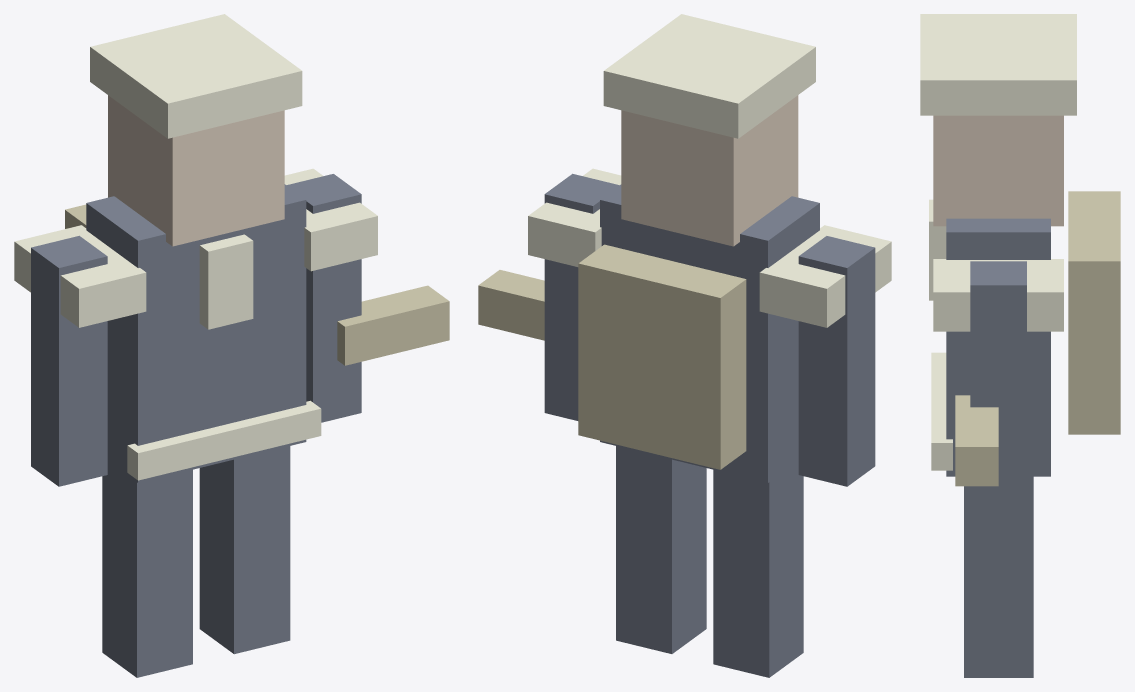
File: 08_vale_dubwater_ranger_under_orbital.glb
3 renders of one model, left to right at view 1: azimuth 30°, elevation 25°; view 2: azimuth 150°, elevation 25°; view 3: azimuth 270°, elevation 25°, orthographic.
Visible parts, largest first — view 1: Vale Dubwater, Ranger under Orbital; view 2: Vale Dubwater, Ranger under Orbital; view 3: Vale Dubwater, Ranger under Orbital.
Part boxes in pixels (<box>): Vale Dubwater, Ranger under Orbital: <box>14,14,449,677</box>; Vale Dubwater, Ranger under Orbital: <box>478,14,891,677</box>; Vale Dubwater, Ranger under Orbital: <box>920,14,1120,677</box>.
Size of the model in its own units: 1.13 by 1.65 by 0.5056.
